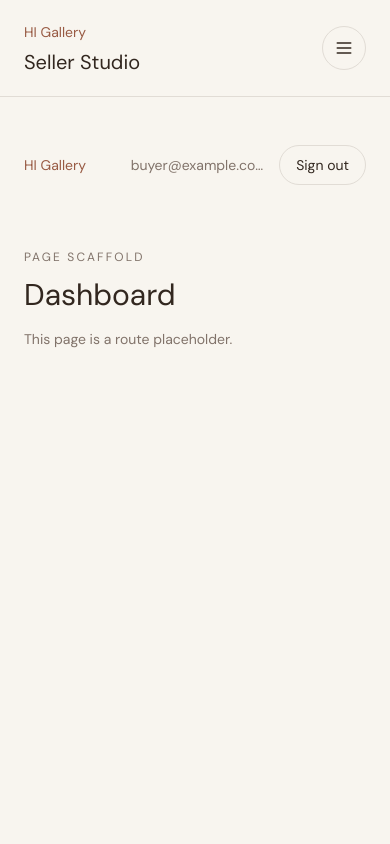
Test: route layouts and navigation › opens the seller mobile menu and closes it after navigation
Step 1. Click the button named "Open Seller Studio menu" → click(344, 48), box [322,26,366,70]
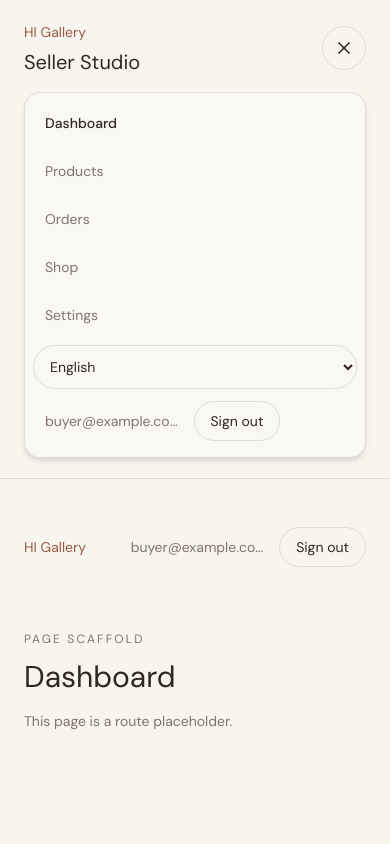
Result: the button named "Open Seller Studio menu" is expanded at [322,26,366,70]
Result: the navigation bar with id "seller-mobile-navigation" is shown at [24,92,366,458]
Step 2. Click the link "Products" → click(74, 171), box [45,162,104,180]
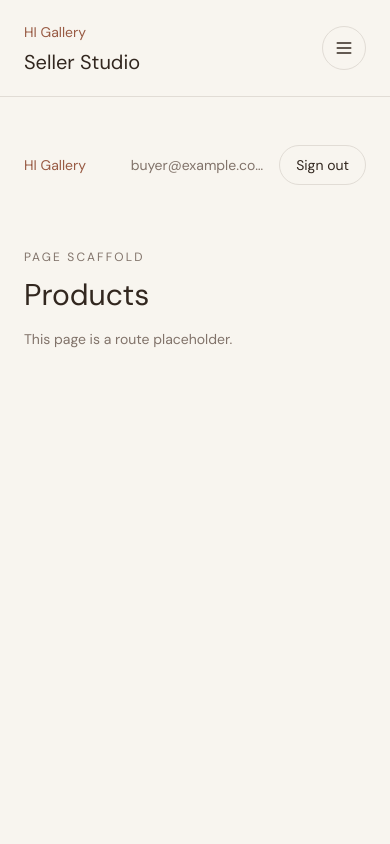
Result: the button named "Open Seller Studio menu" is collapsed at [322,26,366,70]
